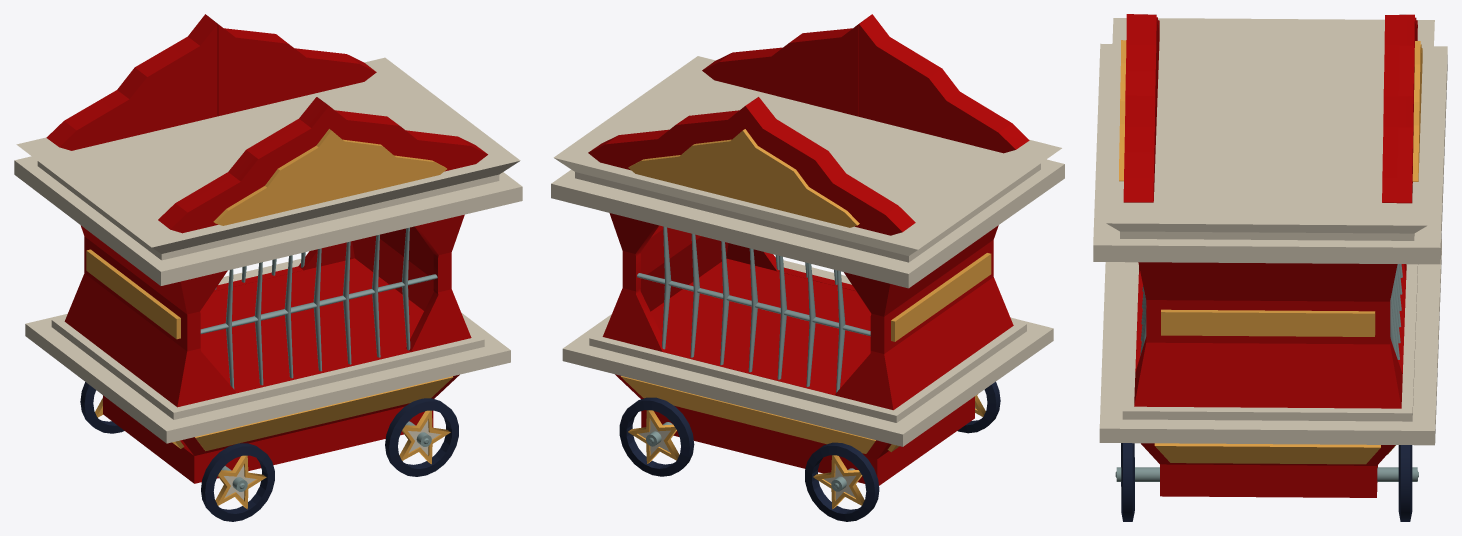
The model's file is F_Trailer_03.fbx.
3 renders of one model, left to right at view 1: azimuth 30°, elevation 25°; view 2: azimuth 150°, elevation 25°; view 3: azimuth 270°, elevation 25°, orthographic. The views are drawn at different scales.
Visible parts, largest first — view 1: F_Trailer_03; view 2: F_Trailer_03; view 3: F_Trailer_03.
Boxes of the visible parts, x1,y1,x2,y2 form: F_Trailer_03: [14, 14, 522, 521]; F_Trailer_03: [551, 14, 1064, 521]; F_Trailer_03: [1093, 14, 1447, 521].
Size of the model in its own units: 476 by 482 by 343.
1 material, 1 textured.
